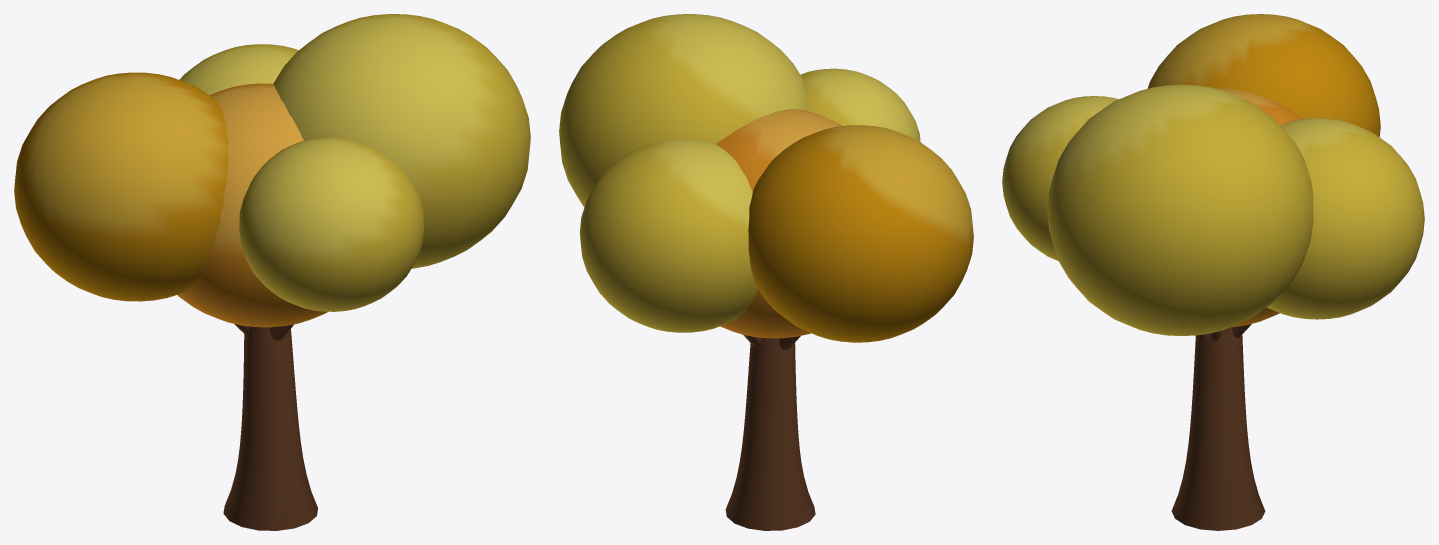
Rendered from round-tree-6.obj.
The picture shows the model from 3 angles, left to right: view 1: azimuth 30°, elevation 25°; view 2: azimuth 150°, elevation 25°; view 3: azimuth 270°, elevation 25°; orthographic projection. The views are drawn at different scales.
Parts seen in each view (by area): view 1: tree; view 2: tree; view 3: tree.
Boxes of the visible parts, left/top/right/bottom form: tree: left=14, top=14, right=530, bottom=530; tree: left=559, top=14, right=973, bottom=530; tree: left=1002, top=14, right=1424, bottom=530.
Size of the model in its own units: 423 by 430 by 356.
